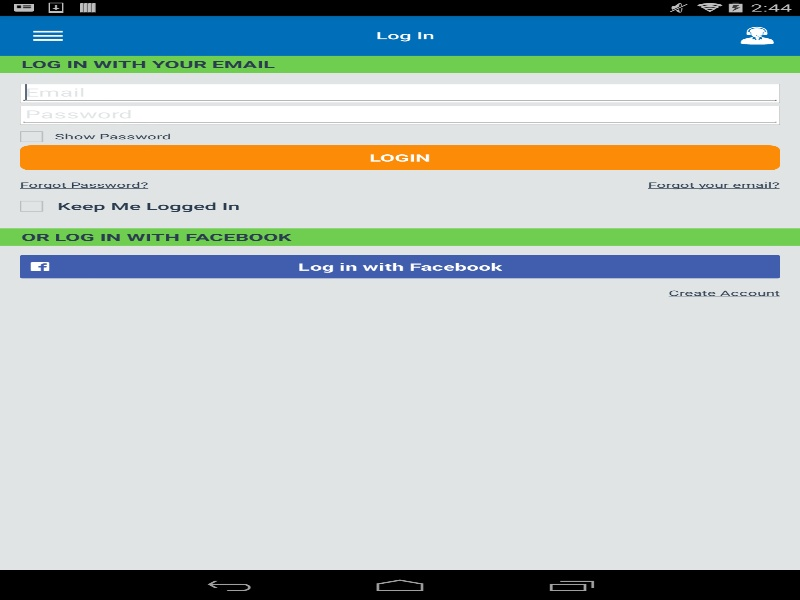Button: (20, 145, 780, 170), (20, 255, 780, 278), (10, 18, 85, 53)
Input: (20, 105, 780, 124), (20, 84, 780, 102)
